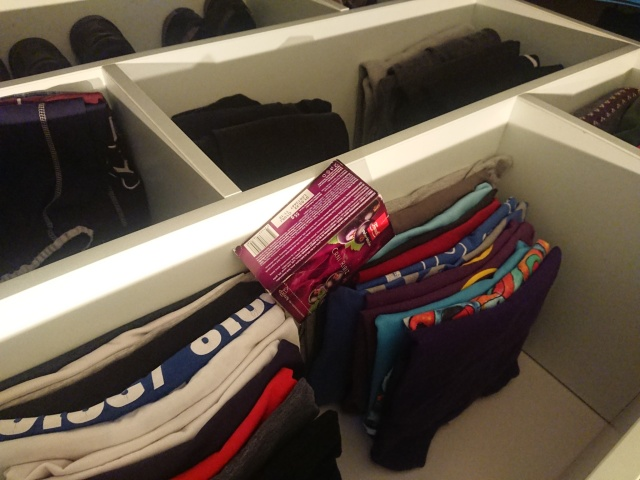Franck Black Currant Tea 60g: (230, 156, 398, 327)
